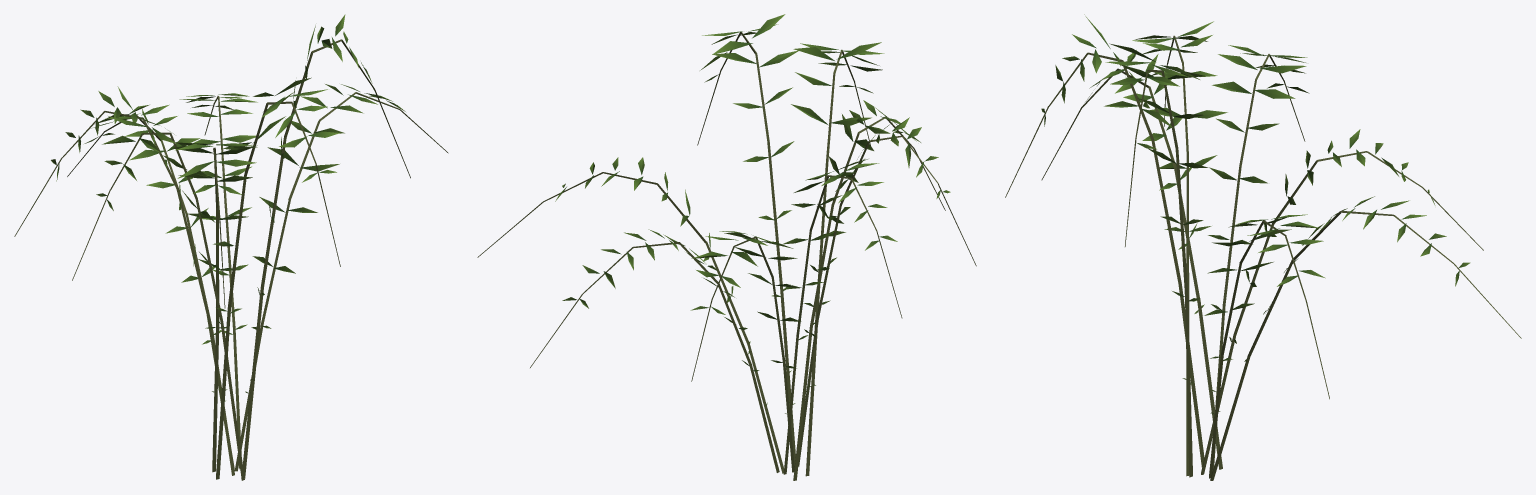
The model's file is forest_fern_001_b_LOD3.gltf.
The picture shows the model from 3 angles, left to right: view 1: azimuth 30°, elevation 25°; view 2: azimuth 150°, elevation 25°; view 3: azimuth 270°, elevation 25°; orthographic projection. The views are drawn at different scales.
Parts seen in each view (by area): view 1: forest_fern_001_b_LOD3; view 2: forest_fern_001_b_LOD3; view 3: forest_fern_001_b_LOD3.
Boxes of the visible parts, x1=… form: forest_fern_001_b_LOD3: x1=14, y1=14, x2=448, y2=480; forest_fern_001_b_LOD3: x1=477, y1=14, x2=976, y2=480; forest_fern_001_b_LOD3: x1=1005, y1=14, x2=1521, y2=480.
Bounding box in the file's own units: 2.55 × 2.38 × 2.43.
Materials: 1 (1 with a texture image).
